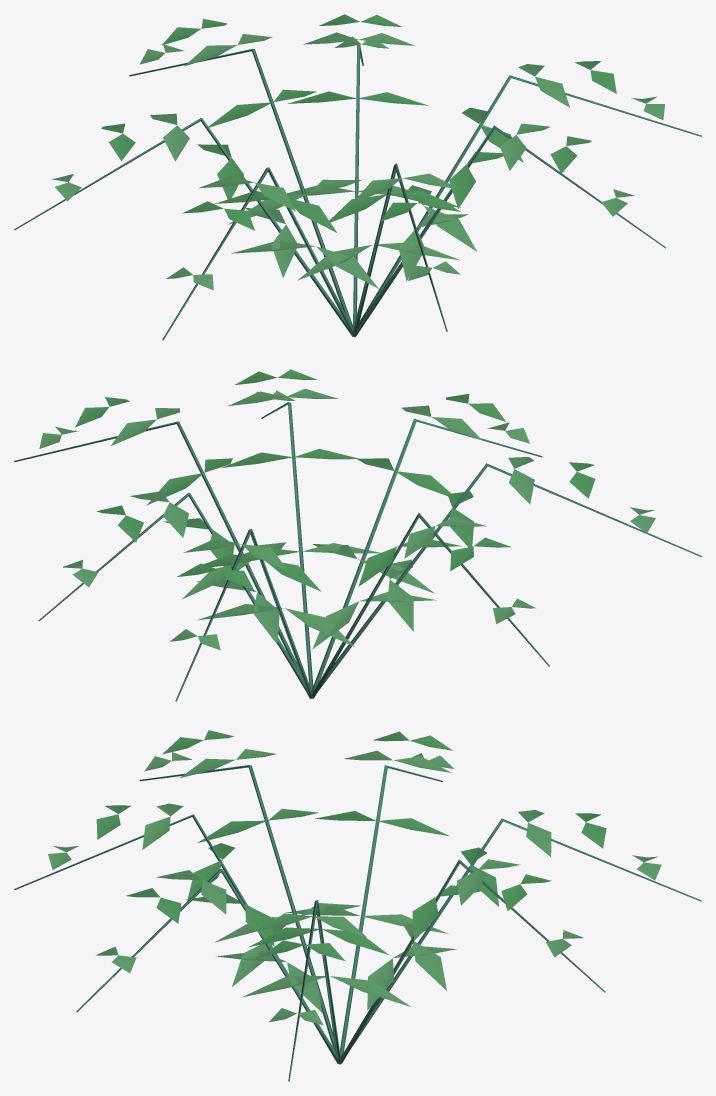
Rendered from fern.glb.
3 renders of one model, top to bottom at view 1: azimuth 30°, elevation 25°; view 2: azimuth 150°, elevation 25°; view 3: azimuth 270°, elevation 25°, orthographic.
Visible parts, largest first — view 1: fern; view 2: fern; view 3: fern.
Part boxes in pixels (left/top/right/bottom): fern: left=14, top=14, right=701, bottom=340; fern: left=14, top=369, right=701, bottom=701; fern: left=14, top=730, right=701, bottom=1081.
Size of what is drawn, in the model's own units: 1.67 by 0.607 by 1.61.
